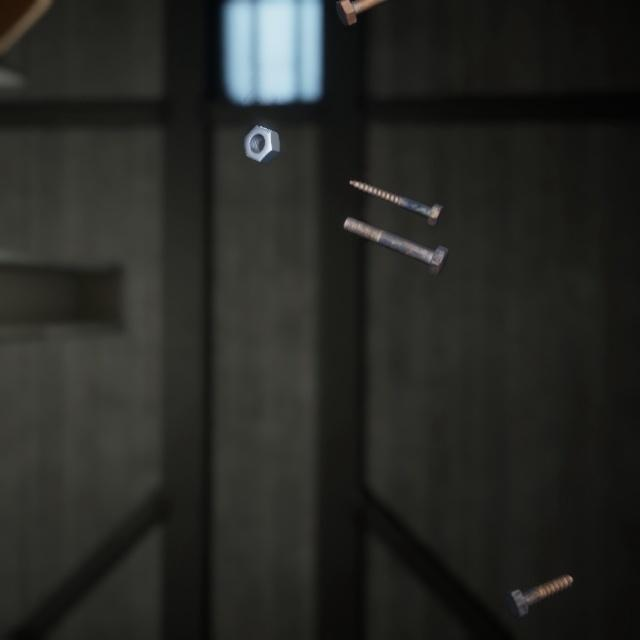bolt: (338, 197, 453, 264), (345, 161, 447, 216), (500, 546, 578, 598), (331, 0, 384, 25)
nut: (240, 107, 284, 154)
